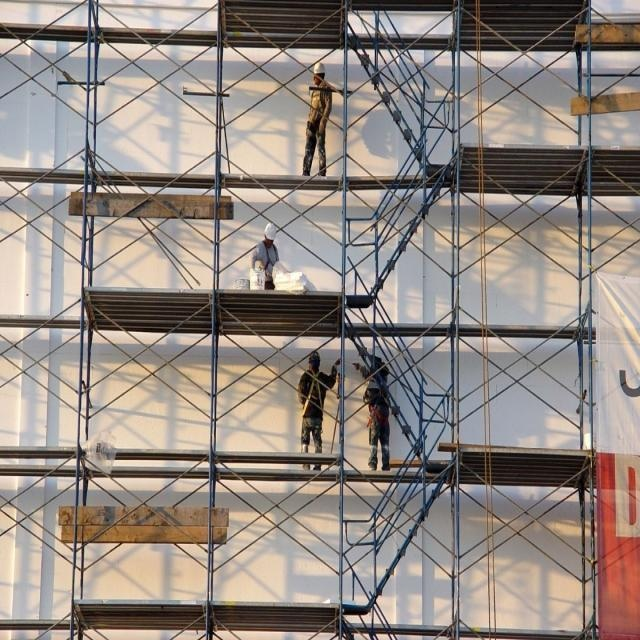Arnes_seguridad: (303, 369, 323, 416), (258, 240, 278, 277), (370, 397, 389, 432)
